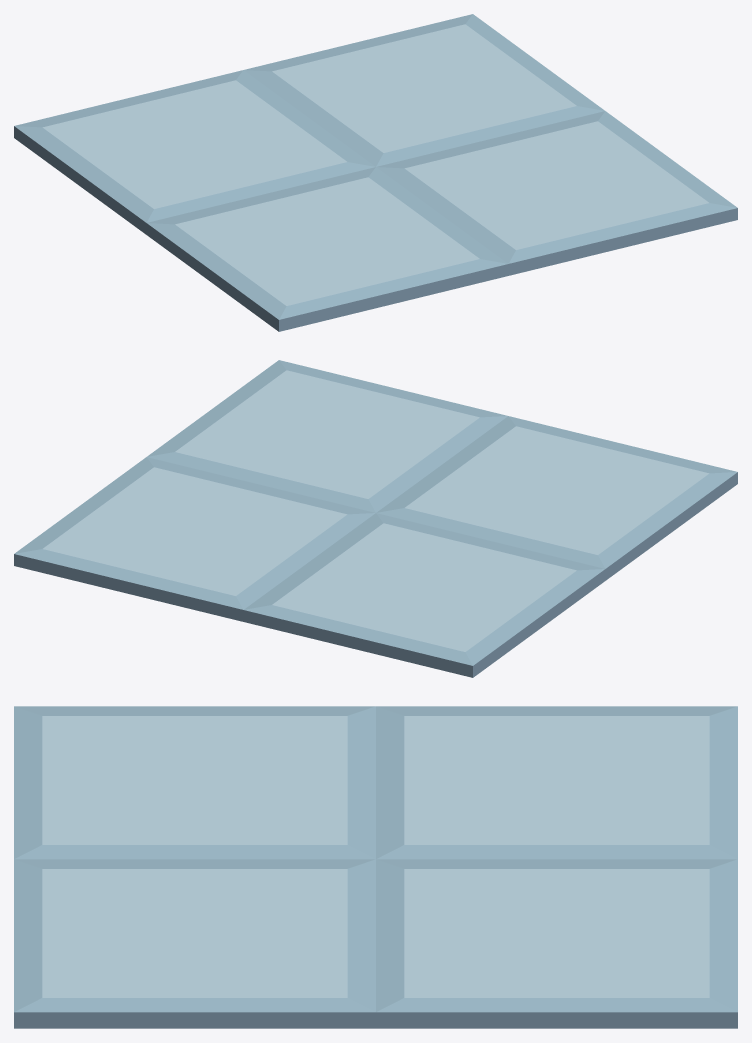
Rendered from FloorBlock_01.glb.
The picture shows the model from 3 angles, top to bottom: view 1: azimuth 30°, elevation 25°; view 2: azimuth 150°, elevation 25°; view 3: azimuth 270°, elevation 25°; orthographic projection. The views are drawn at different scales.
Visible parts, largest first — view 1: Floor_Block_01; view 2: Floor_Block_01; view 3: Floor_Block_01.
Boxes of the visible parts, box(x1,y1,x2,y2) form: Floor_Block_01: box(14, 14, 737, 331); Floor_Block_01: box(14, 360, 737, 677); Floor_Block_01: box(14, 706, 737, 1028).
Size of what is drawn, in the model's own units: 2 by 0.0574 by 2.
Materials: 1 (1 with a texture image).
